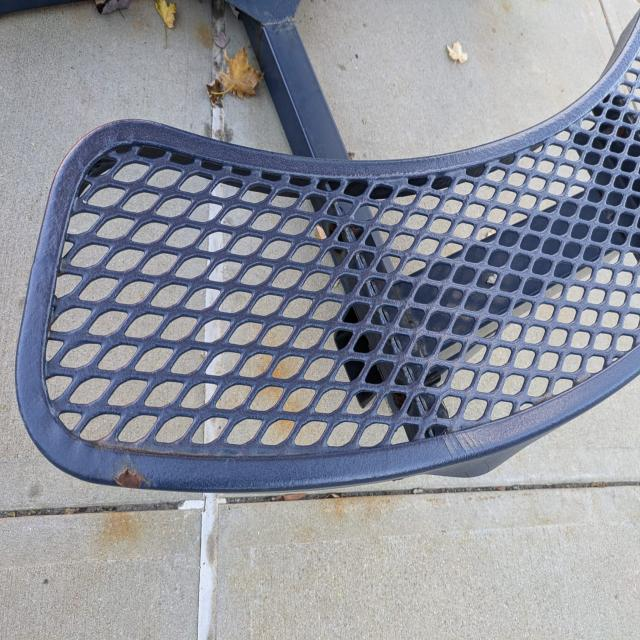Crevice Corrosion: (115, 463, 152, 492)
